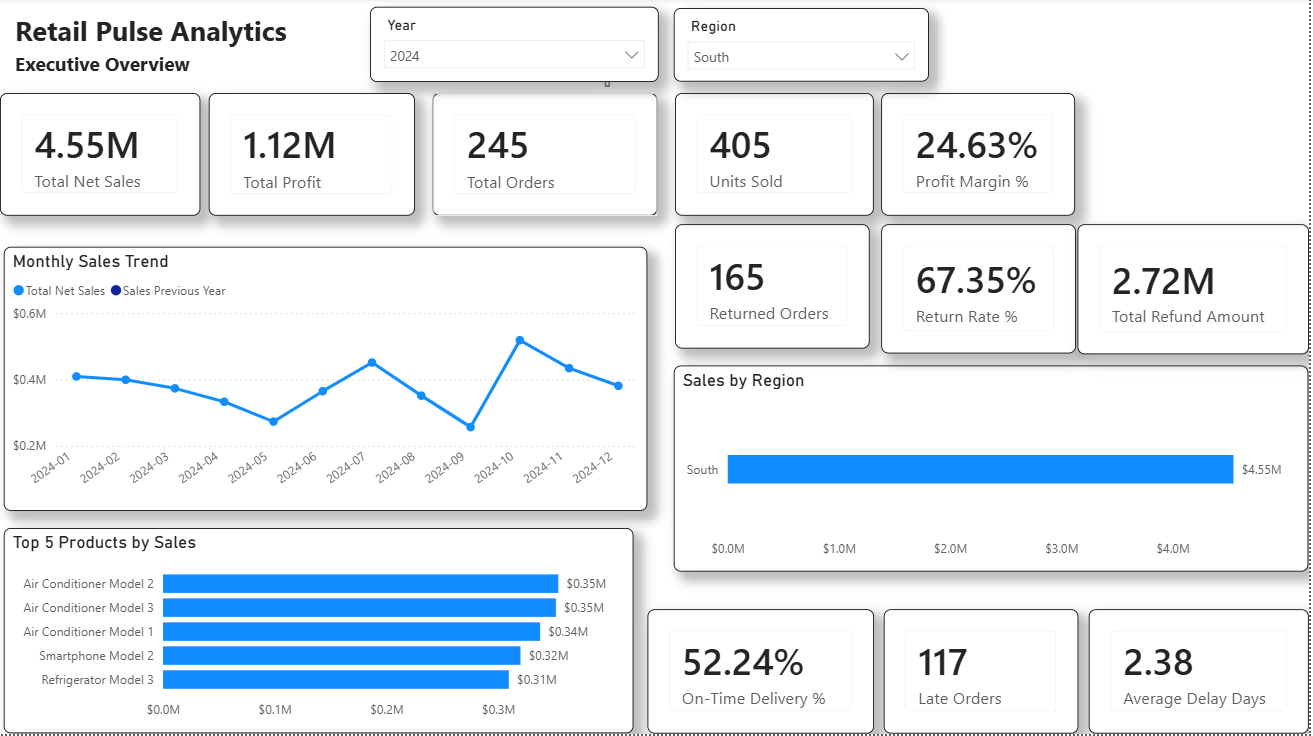

Layout of this report page (visuals, bound fields, positions):
{"tool":"powerbi","page":{"name":"Executive Overview","canvas":[1280,720],"ordinal":0},"visuals":[{"type":"textbox","box":[10.4,9.1,352.1,45.3],"z":0},{"type":"textbox","box":[9.8,46.5,215.2,35.5],"z":1000},{"type":"cardVisual","fields":{"Data":["_Measures.Total Net Sales"]},"box":[0,92.9,195.7,119.8],"z":2000},{"type":"cardVisual","fields":{"Data":["_Measures.Total Orders"]},"box":[423.3,93.3,220,120],"z":3000},{"type":"cardVisual","fields":{"Data":["_Measures.Units Sold"]},"box":[660.3,92.9,194.4,119.8],"z":4000},{"type":"cardVisual","fields":{"Data":["_Measures.Profit Margin %"]},"box":[862.1,92.9,189.5,119.8],"z":5000},{"type":"slicer","fields":{"Values":["Dim_Date.Year"]},"box":[362.5,9.1,282.2,73.8],"z":6000},{"type":"slicer","fields":{"Values":["Dim_Region.Region"]},"box":[659.1,9.8,249.5,72.1],"z":7000},{"type":"cardVisual","fields":{"Data":["_Measures.Total Profit"]},"box":[204.2,93.3,201.7,120],"z":8000},{"type":"lineChart","title":"Monthly Sales Trend","fields":{"Category":["Dim_Date.YearMonth"],"Y":["_Measures.Total Net Sales","_Measures.Sales Previous Year"]},"box":[3.7,243.3,629.8,258],"z":9000},{"type":"clusteredBarChart","title":"Sales by Region","fields":{"Category":["Dim_Region.Region"],"Y":["_Measures.Total Net Sales"]},"box":[659.1,359.5,621.2,201.8],"z":10000},{"type":"clusteredBarChart","title":"Top 5 Products by Sales ","fields":{"Category":["Dim_Product.ProductName"],"Y":["_Measures.Total Net Sales"]},"box":[3.7,518.5,616.3,200.5],"z":11000},{"type":"cardVisual","fields":{"Data":["Fact_Returns.Returned Orders"]},"box":[660,221.7,190,121.7],"z":12000},{"type":"cardVisual","fields":{"Data":["_Measures.Return Rate %"]},"box":[862.5,221.7,190,126.7],"z":13000},{"type":"cardVisual","fields":{"Data":["_Measures.Total Refund Amount"]},"box":[1054.1,221.3,226.2,127.2],"z":14000},{"type":"cardVisual","fields":{"Data":["_Measures.On - Time Delivery %"]},"box":[633.3,598.3,221.7,121.7],"z":15000},{"type":"cardVisual","fields":{"Data":["_Measures.Late Orders"]},"box":[865,598.3,190,121.7],"z":16000},{"type":"cardVisual","fields":{"Data":["_Measures.Average Delay Days"]},"box":[1065,598.3,215,121.7],"z":17000}]}

Visuals, with their boxes in screenshot pixels (x1, y1, x2, y2), scaled from the page's 1280x720 canvas onto the 1313x736 screenshot:
textbox: 11,9,372,56
textbox: 10,48,231,84
cardVisual - _Measures.Total Net Sales: 0,95,201,217
cardVisual - _Measures.Total Orders: 434,95,660,218
cardVisual - _Measures.Units Sold: 677,95,877,217
cardVisual - _Measures.Profit Margin %: 884,95,1079,217
slicer - Dim_Date.Year: 372,9,661,85
slicer - Dim_Region.Region: 676,10,932,84
cardVisual - _Measures.Total Profit: 209,95,416,218
"Monthly Sales Trend" lineChart: 4,249,650,512
"Sales by Region" clusteredBarChart: 676,367,1312,574
"Top 5 Products by Sales " clusteredBarChart: 4,530,636,735
cardVisual - Fact_Returns.Returned Orders: 677,227,872,351
cardVisual - _Measures.Return Rate %: 885,227,1080,356
cardVisual - _Measures.Total Refund Amount: 1081,226,1312,356
cardVisual - _Measures.On - Time Delivery %: 650,612,877,735
cardVisual - _Measures.Late Orders: 887,612,1082,735
cardVisual - _Measures.Average Delay Days: 1092,612,1312,735
